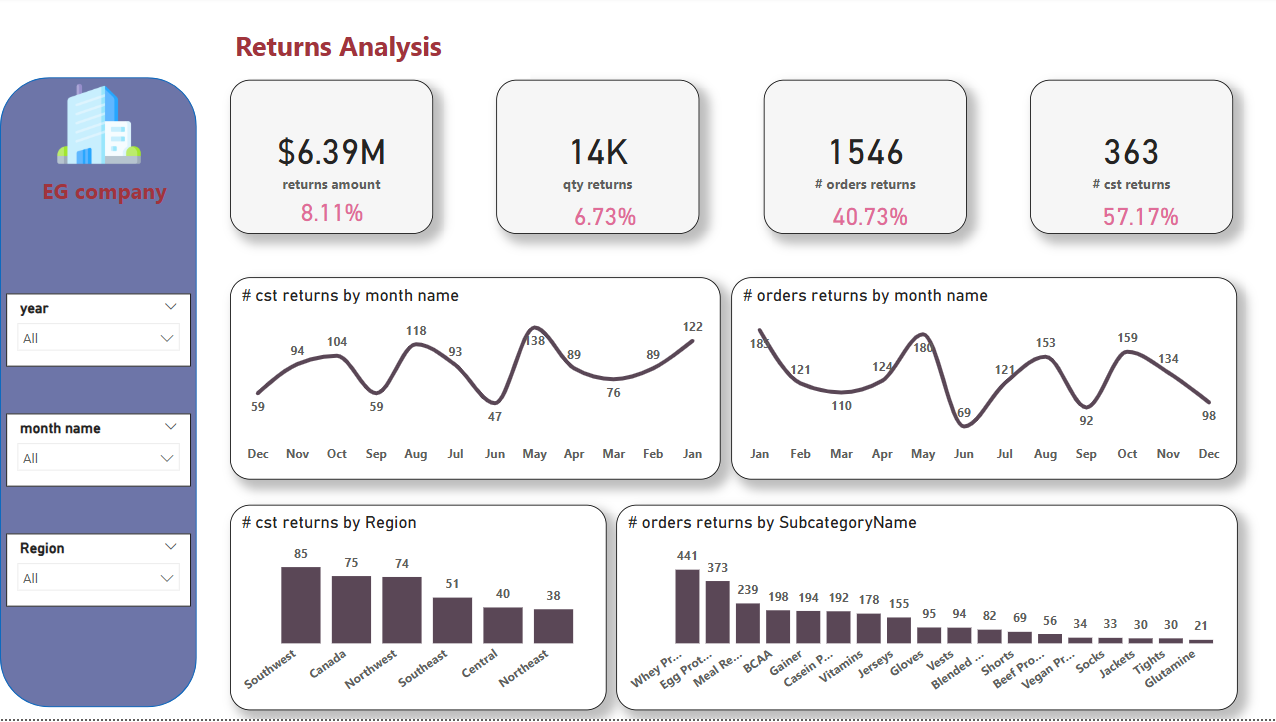

What the dashboard file says about the page in this screenshot:
{"tool":"powerbi","page":{"name":"Returns analysis","canvas":[1280,720],"ordinal":2},"visuals":[{"type":"card","fields":{"Values":["returns calculations.# cst returns"]},"box":[1025.9,83.1,202.2,153.8],"z":0},{"type":"shape","box":[0,81.4,196,627.7],"z":1000},{"type":"card","fields":{"Values":["returns calculations.returns amount"]},"box":[229.5,83.1,202.2,153.8],"z":2000},{"type":"card","fields":{"Values":["returns calculations.qty returns"]},"box":[495,83.1,202.2,153.8],"z":3000},{"type":"card","fields":{"Values":["returns calculations.# orders returns"]},"box":[760.5,83.1,202.2,153.8],"z":4000},{"type":"card","fields":{"Values":["returns calculations.%returns amount"]},"box":[275.4,183.6,111.6,64.5],"z":5000},{"type":"card","fields":{"Values":["returns calculations.%returns Qty"]},"box":[507.4,187.3,192.3,64.5],"z":6000},{"type":"card","fields":{"Values":["returns calculations.% orders returns"]},"box":[810.5,187.3,112.9,64.5],"z":7000},{"type":"card","fields":{"Values":["returns calculations.% cst returns"]},"box":[1079.3,187.3,112.9,64.5],"z":8000},{"type":"lineChart","fields":{"Category":["calendar.month name"],"Y":["returns calculations.# cst returns"]},"box":[229.2,279.9,488.6,201.5],"z":9000},{"type":"lineChart","fields":{"Category":["calendar.month name"],"Y":["returns calculations.# orders returns"]},"box":[728.7,279.9,504.3,201.5],"z":10000},{"type":"columnChart","fields":{"Category":["customers.Region"],"Y":["returns calculations.# cst returns"]},"box":[229.2,506.7,375.2,205.1],"z":11000},{"type":"columnChart","fields":{"Y":["returns calculations.# orders returns"],"Category":["product.SubcategoryName"]},"box":[614.1,506.7,618.9,205.1],"z":12000},{"type":"image","box":[18.6,81.4,160,93],"z":13000},{"type":"textbox","box":[12.4,174.4,183.6,89.3],"z":14000},{"type":"textbox","box":[229.5,26.1,299,55.8],"z":15000},{"type":"slicer","fields":{"Values":["calendar.year"]},"box":[6.2,296,183.6,73.2],"z":16000},{"type":"slicer","fields":{"Values":["customers.Region"]},"box":[6.2,535.9,183.6,73.2],"z":17000},{"type":"slicer","fields":{"Values":["calendar.month name"]},"box":[6.2,416,183.6,73.2],"z":18000},{"type":"actionButton","box":[6.2,6.2,49.8,39.9],"z":19000}]}

Visuals, with their boxes in screenshot pixels (x1, y1, x2, y2), scaled from the page's 1280x720 canvas onto the 1276x722 screenshot:
card - returns calculations.# cst returns: 1023,83,1224,238
shape: 0,82,195,711
card - returns calculations.returns amount: 229,83,430,238
card - returns calculations.qty returns: 493,83,695,238
card - returns calculations.# orders returns: 758,83,960,238
card - returns calculations.%returns amount: 275,184,386,249
card - returns calculations.%returns Qty: 506,188,698,252
card - returns calculations.% orders returns: 808,188,921,252
card - returns calculations.% cst returns: 1076,188,1188,252
lineChart - calendar.month name x returns calculations.# cst returns: 228,281,716,483
lineChart - calendar.month name x returns calculations.# orders returns: 726,281,1229,483
columnChart - customers.Region x returns calculations.# cst returns: 228,508,603,714
columnChart - returns calculations.# orders returns x product.SubcategoryName: 612,508,1229,714
image: 19,82,178,175
textbox: 12,175,195,264
textbox: 229,26,527,82
slicer - calendar.year: 6,297,189,370
slicer - customers.Region: 6,537,189,611
slicer - calendar.month name: 6,417,189,491
actionButton: 6,6,56,46
